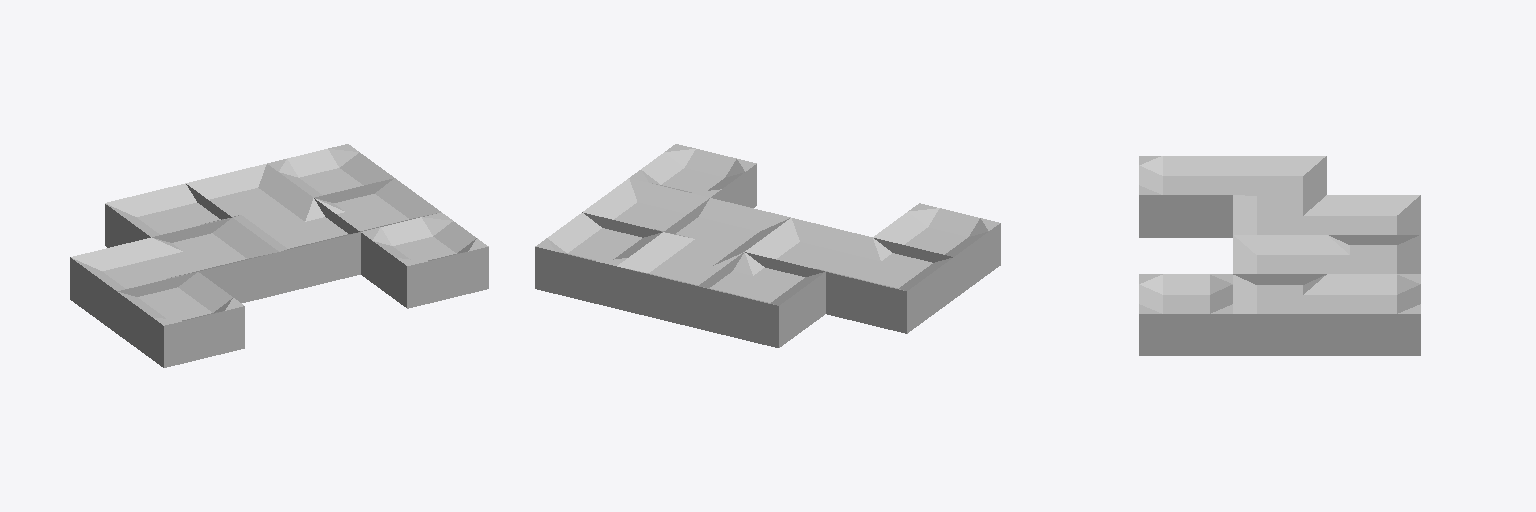
File: 3s_path.obj
3 renders of one model, left to right at view 1: azimuth 30°, elevation 25°; view 2: azimuth 150°, elevation 25°; view 3: azimuth 270°, elevation 25°, orthographic.
Parts seen in each view (by area): view 1: hole.3.2_Cube.156, ending.0.2_ending.309, corner.2.3_corner.779, corner.1.3_corner.777, corner.0.3_corner.776, corner.1.4_corner.778, corner.2.4_corner.780, corner.3.3_corner.781, ending.3.4_ending.310; view 2: corner.0.3_corner.776, corner.1.4_corner.778, corner.2.4_corner.780, ending.3.4_ending.310, ending.0.2_ending.309, hole.3.2_Cube.156, corner.1.3_corner.777, corner.3.3_corner.781, corner.2.3_corner.779; view 3: ending.0.2_ending.309, hole.3.2_Cube.156, ending.3.4_ending.310, corner.3.3_corner.781, corner.2.3_corner.779, corner.0.3_corner.776, corner.1.4_corner.778, corner.2.4_corner.780, corner.1.3_corner.777.
Part boxes in pixels (bbox=[...]): hole.3.2_Cube.156: bbox=[361, 212, 488, 308]; ending.0.2_ending.309: bbox=[117, 272, 244, 367]; corner.2.3_corner.779: bbox=[234, 198, 360, 293]; corner.1.3_corner.777: bbox=[151, 218, 278, 302]; corner.0.3_corner.776: bbox=[70, 238, 196, 333]; corner.1.4_corner.778: bbox=[105, 183, 229, 247]; corner.2.4_corner.780: bbox=[186, 164, 312, 222]; corner.3.3_corner.781: bbox=[315, 178, 440, 231]; ending.3.4_ending.310: bbox=[267, 144, 393, 197]; corner.0.3_corner.776: bbox=[826, 238, 953, 333]; corner.1.4_corner.778: bbox=[698, 252, 825, 347]; corner.2.4_corner.780: bbox=[617, 232, 743, 328]; ending.3.4_ending.310: bbox=[535, 213, 662, 308]; ending.0.2_ending.309: bbox=[873, 203, 1000, 298]; hole.3.2_Cube.156: bbox=[630, 144, 756, 207]; corner.1.3_corner.777: bbox=[745, 218, 872, 276]; corner.3.3_corner.781: bbox=[582, 178, 708, 237]; corner.2.3_corner.779: bbox=[664, 198, 790, 257]; ending.0.2_ending.309: bbox=[1139, 156, 1232, 237]; hole.3.2_Cube.156: bbox=[1139, 274, 1232, 355]; ending.3.4_ending.310: bbox=[1327, 274, 1420, 355]; corner.3.3_corner.781: bbox=[1233, 275, 1326, 355]; corner.2.3_corner.779: bbox=[1233, 235, 1326, 284]; corner.0.3_corner.776: bbox=[1233, 156, 1326, 205]; corner.1.4_corner.778: bbox=[1327, 195, 1420, 234]; corner.2.4_corner.780: bbox=[1327, 235, 1420, 273]; corner.1.3_corner.777: bbox=[1233, 195, 1326, 234].
Size of the model in its own units: 8 by 1 by 6.